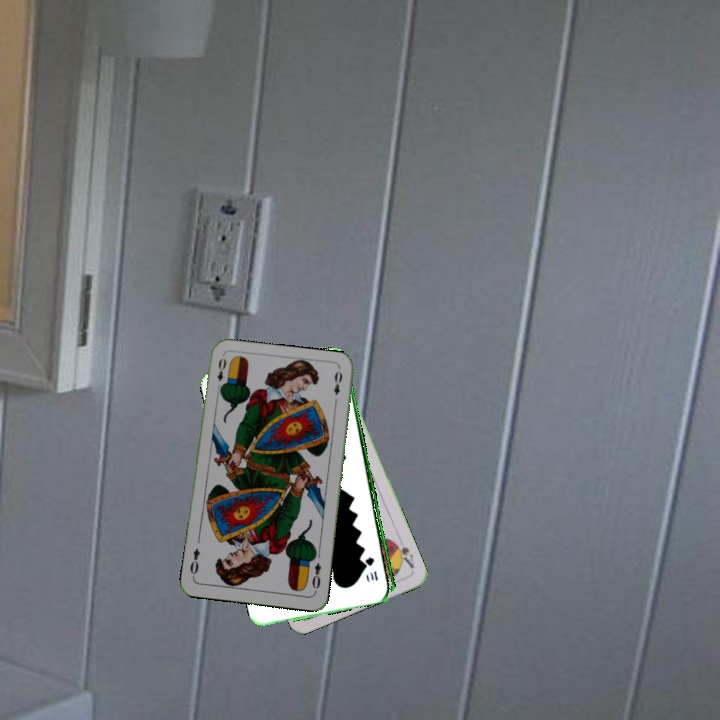EO: (213, 354, 229, 393), (308, 559, 324, 595)
G10: (364, 552, 380, 583)
SA: (389, 537, 417, 571)
